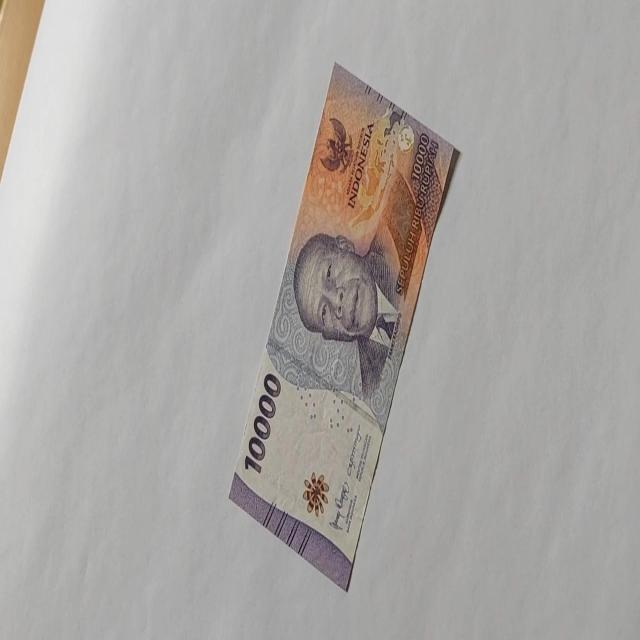Kertas: (227, 60, 460, 592), (243, 372, 281, 476)
